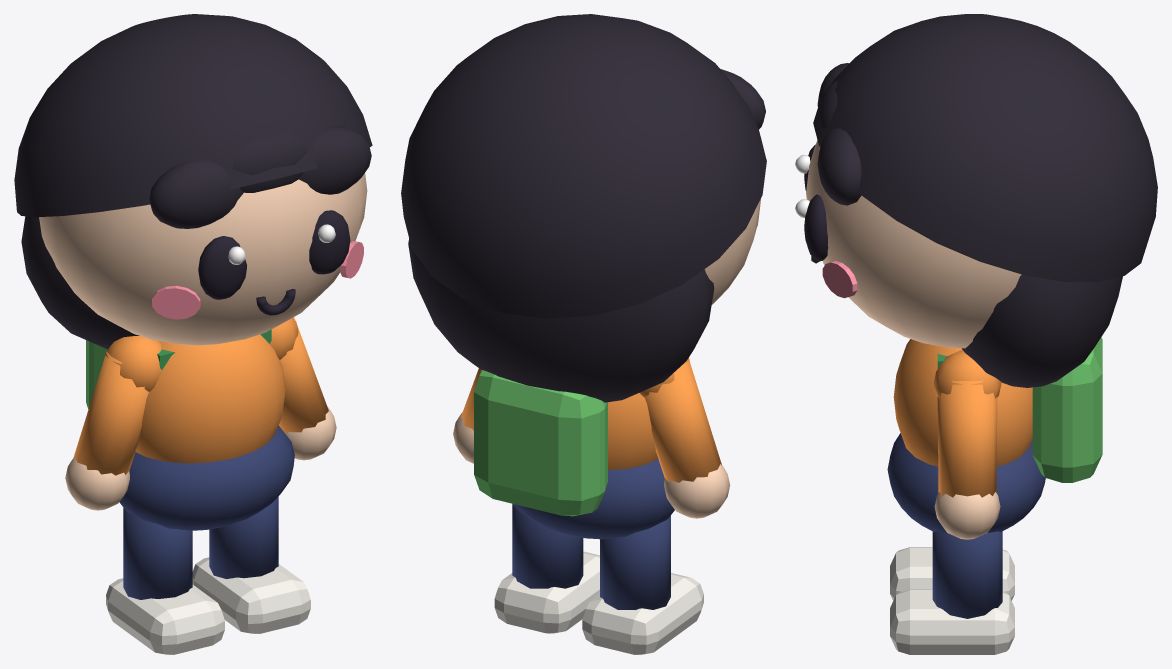
File: char_pedestrian.glb
The picture shows the model from 3 angles, left to right: view 1: azimuth 30°, elevation 25°; view 2: azimuth 150°, elevation 25°; view 3: azimuth 270°, elevation 25°; orthographic projection. The views are drawn at different scales.
Visible parts, largest first — view 1: head, char_pedestrian; view 2: head, char_pedestrian; view 3: head, char_pedestrian.
Boxes of the visible parts, <box> form: head: <box>14,14,372,349</box>; char_pedestrian: <box>65,317,336,654</box>; head: <box>401,14,766,402</box>; char_pedestrian: <box>453,358,730,654</box>; head: <box>795,14,1157,387</box>; char_pedestrian: <box>887,337,1102,654</box>.
Size of the model in its own units: 0.7344 by 1.31 by 0.7259.
